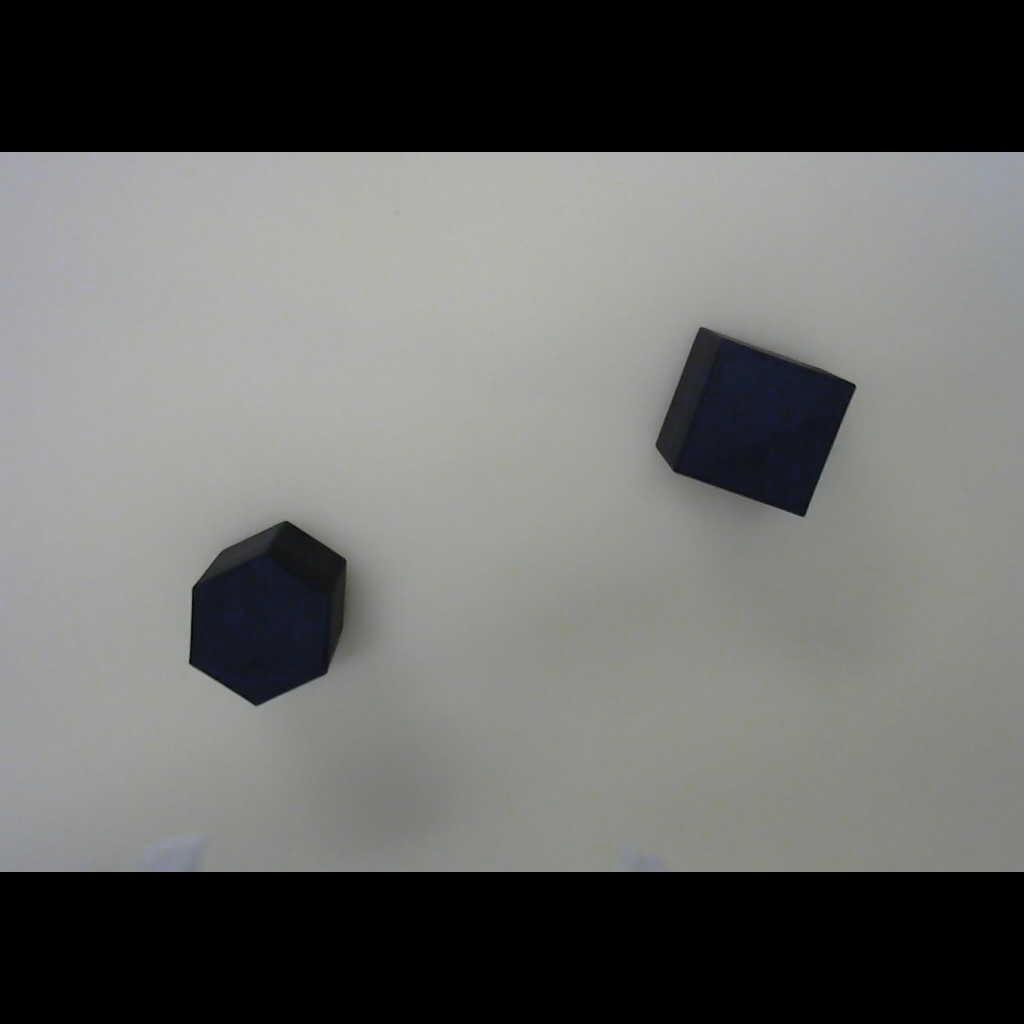hexagon: (170, 503, 369, 725)
square: (619, 301, 885, 550)
